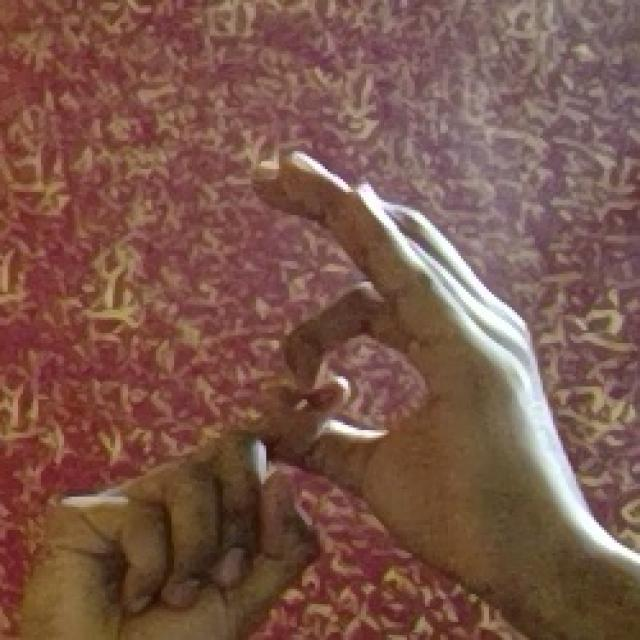Alphabet-Q: (33, 110, 589, 640)
